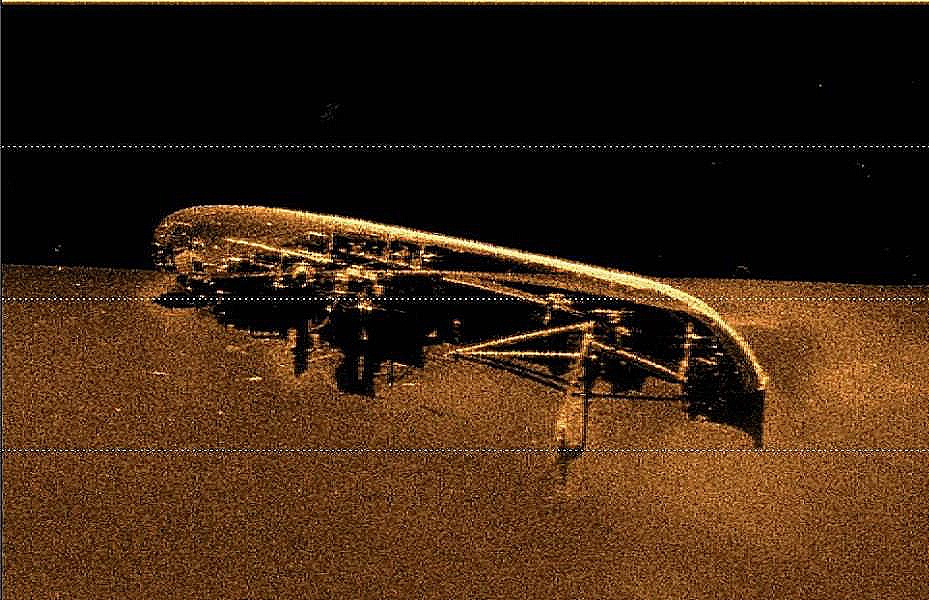ship: (148, 205, 772, 445)
